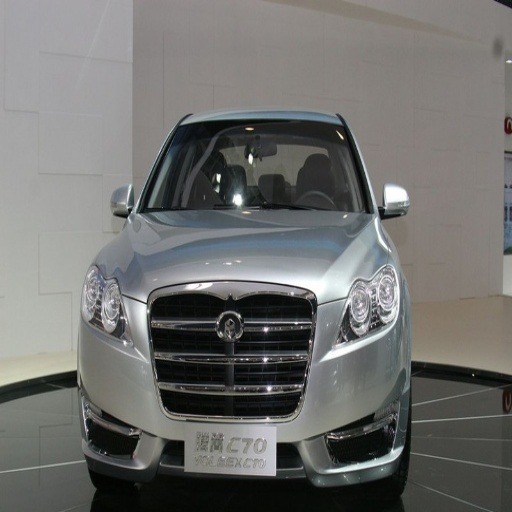front_bumper: (81, 283, 407, 491)
front_right_light: (82, 265, 131, 347)
hood: (110, 211, 387, 302)
